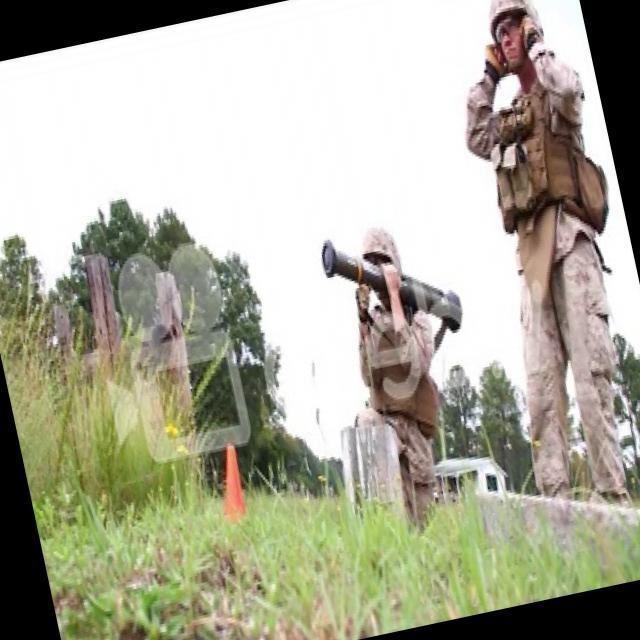rocket: (322, 218, 467, 361)
